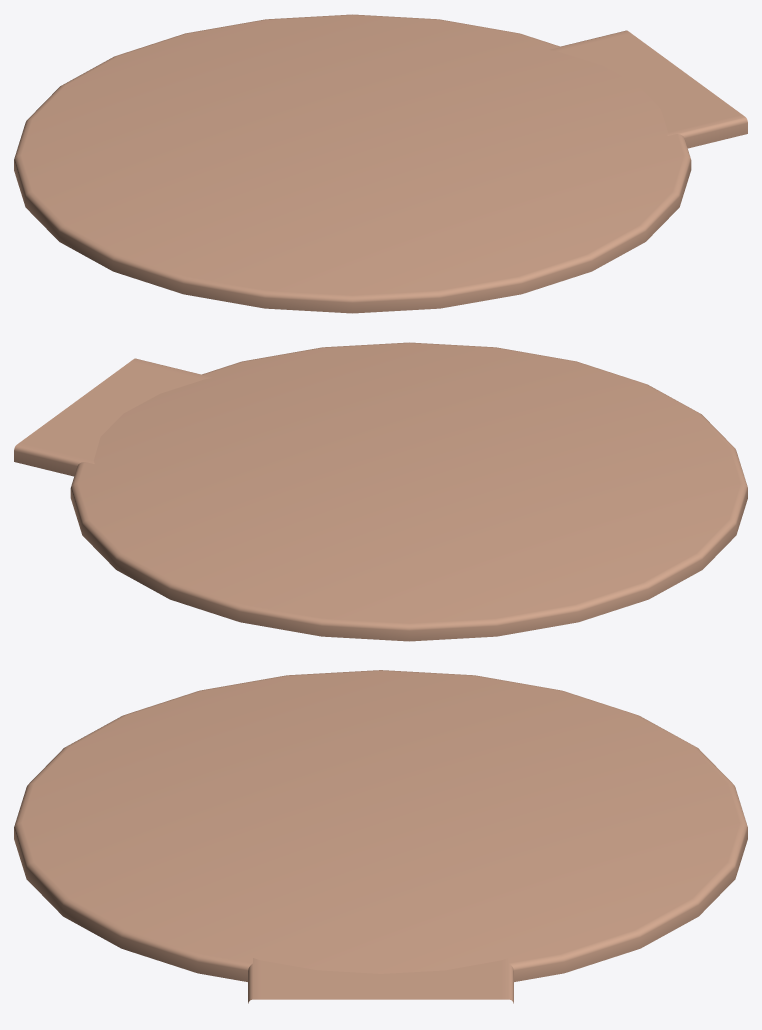
Rendered from Finish_Big.fbx.
The picture shows the model from 3 angles, top to bottom: view 1: azimuth 30°, elevation 25°; view 2: azimuth 150°, elevation 25°; view 3: azimuth 270°, elevation 25°; orthographic projection. The views are drawn at different scales.
Visible parts, largest first — view 1: Finish_Big; view 2: Finish_Big; view 3: Finish_Big.
Part boxes in pixels (x1,y1,x2,y2): Finish_Big: [14, 14, 747, 313]; Finish_Big: [14, 342, 747, 641]; Finish_Big: [14, 670, 747, 1003].
Bounding box in the file's own units: 1685 × 38.94 × 1576.
